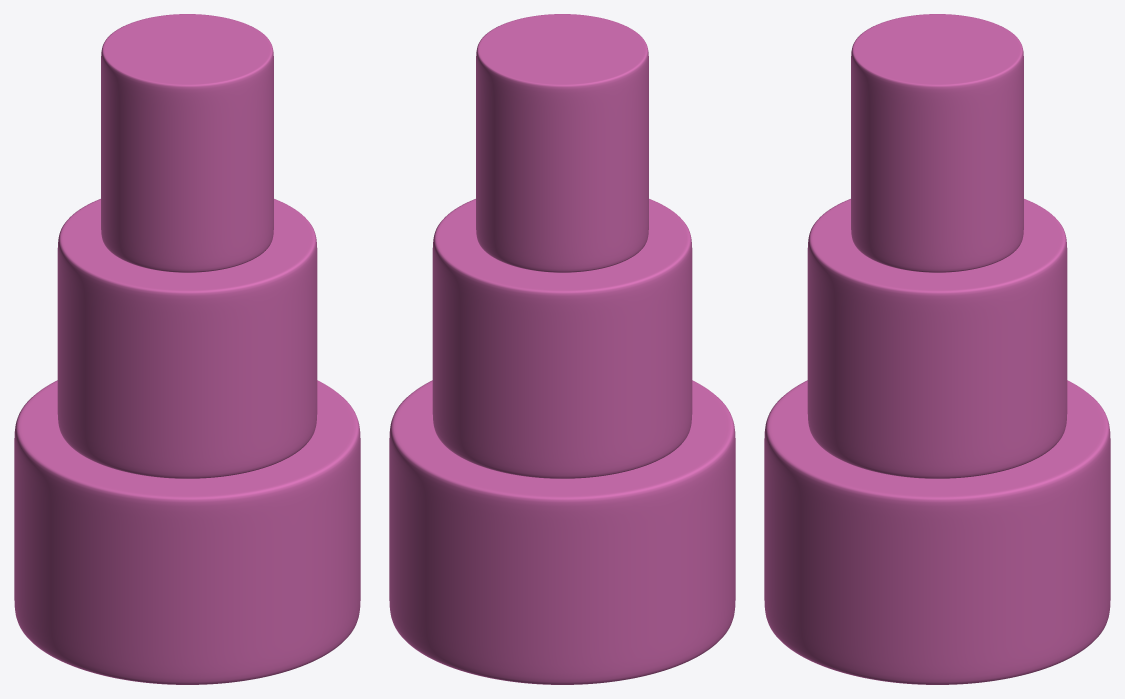
Rendered from Cake_Layer_3_Pink.glb.
3 views of the same model, side by side, from view 1: azimuth 30°, elevation 25°; view 2: azimuth 150°, elevation 25°; view 3: azimuth 270°, elevation 25° (orthographic).
Visible parts, largest first — view 1: Circle.001, Circle.002, Circle.003; view 2: Circle.001, Circle.002, Circle.003; view 3: Circle.001, Circle.002, Circle.003.
Boxes of the visible parts, <box> form: Circle.001: <box>14,380,360,684</box>; Circle.002: <box>57,199,317,478</box>; Circle.003: <box>101,14,273,272</box>; Circle.001: <box>389,380,735,684</box>; Circle.002: <box>432,199,692,478</box>; Circle.003: <box>476,14,648,272</box>; Circle.001: <box>764,380,1110,684</box>; Circle.002: <box>807,199,1067,478</box>; Circle.003: <box>851,14,1023,272</box>.
Size of the model in its own units: 0.2 by 0.36 by 0.2.
